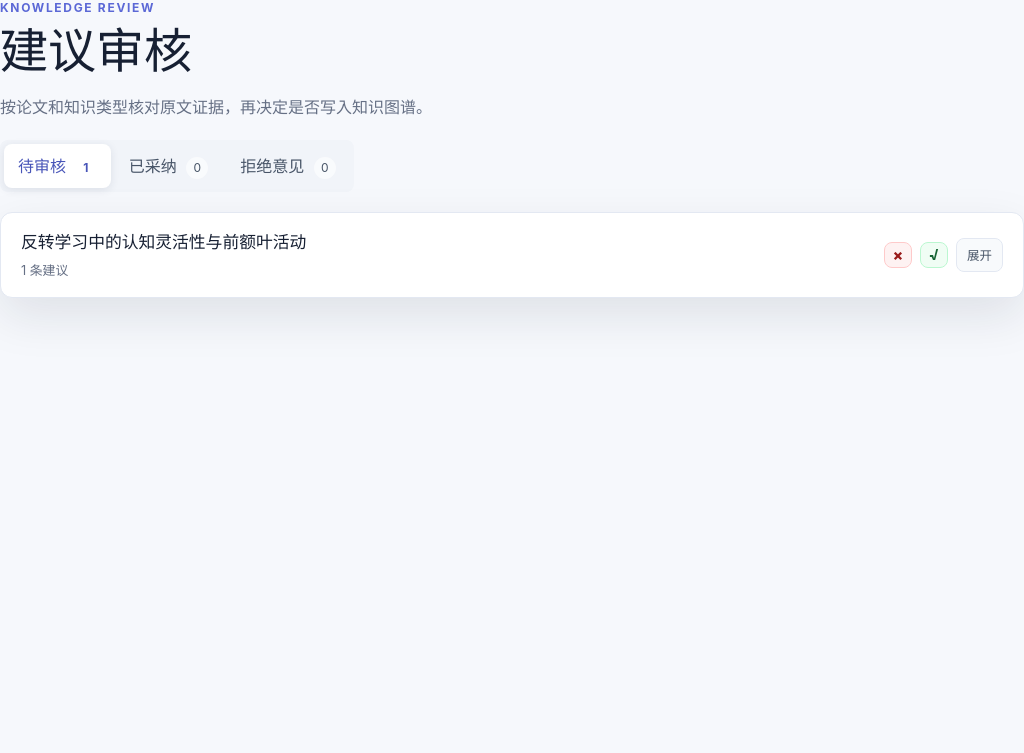
Test: SuggestionReviewPage v05 behavior › preserves the New selection and edited label after a stale candidate conflict
Click the button "展开".
click(980, 255)  # box left=956, top=238, right=1003, bottom=272
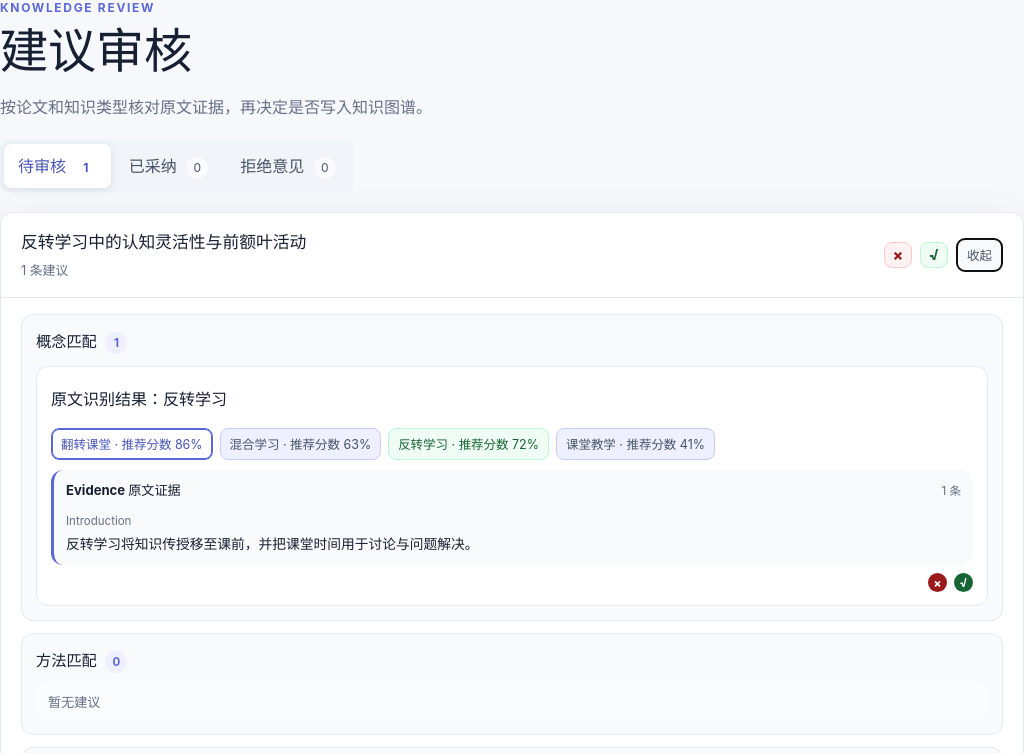
Click the button "翻转课堂 · 推荐分数 86%".
click(132, 444)  # box left=51, top=428, right=213, bottom=460
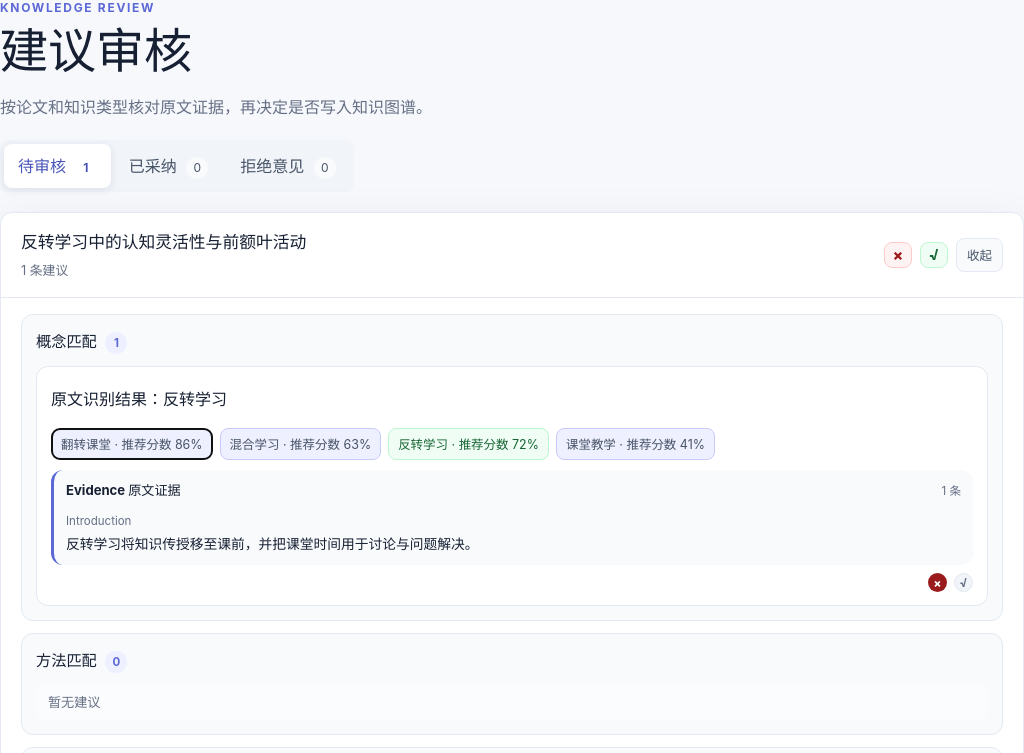
Click the button "反转学习 · 推荐分数 72%".
click(468, 444)  # box left=388, top=428, right=549, bottom=460
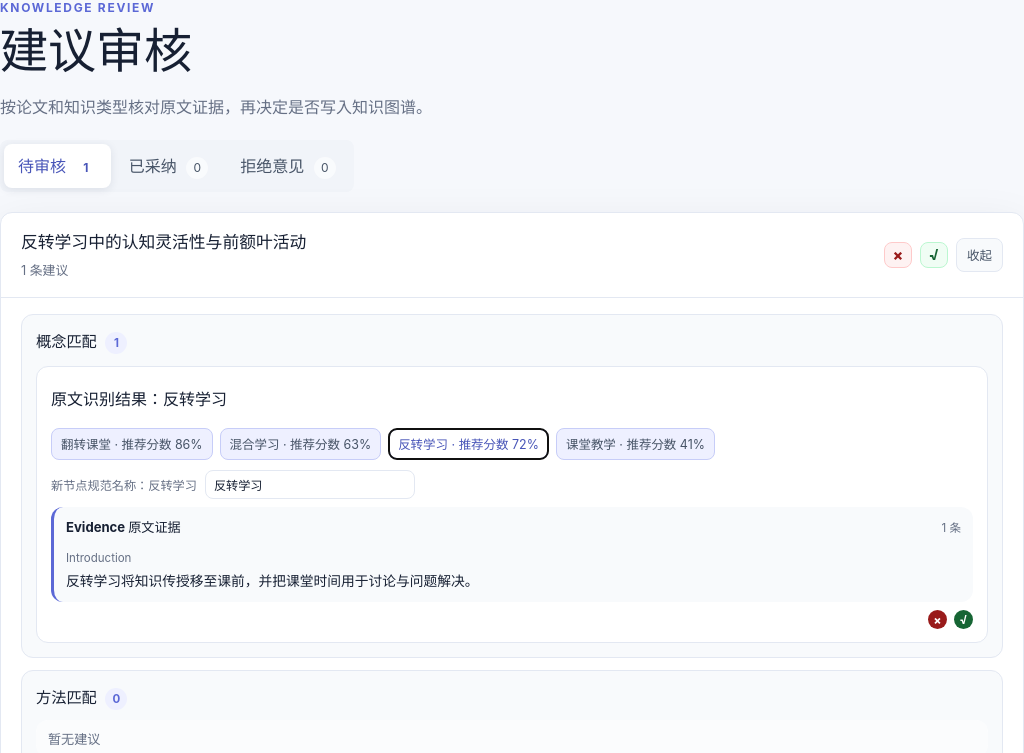
Replace the text in the field labelled "新节点规范名称：反转学习" with "修订名称" at (310, 485), box left=205, top=470, right=415, bottom=499
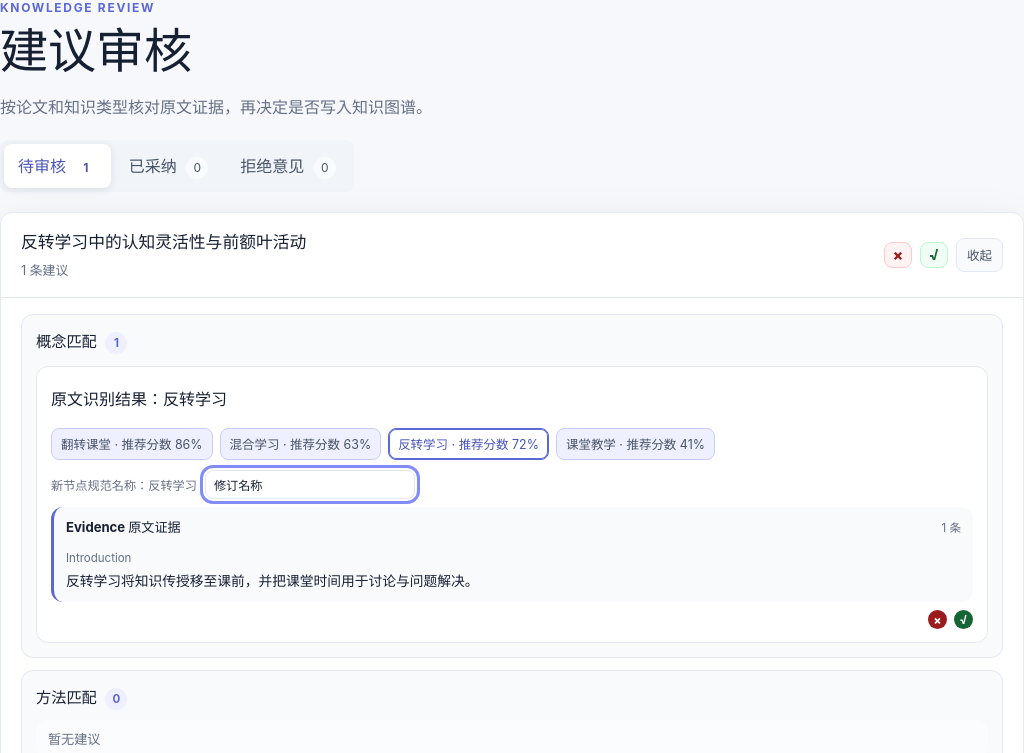
Click the 2nd button "√".
click(964, 620)  # box left=954, top=610, right=973, bottom=629
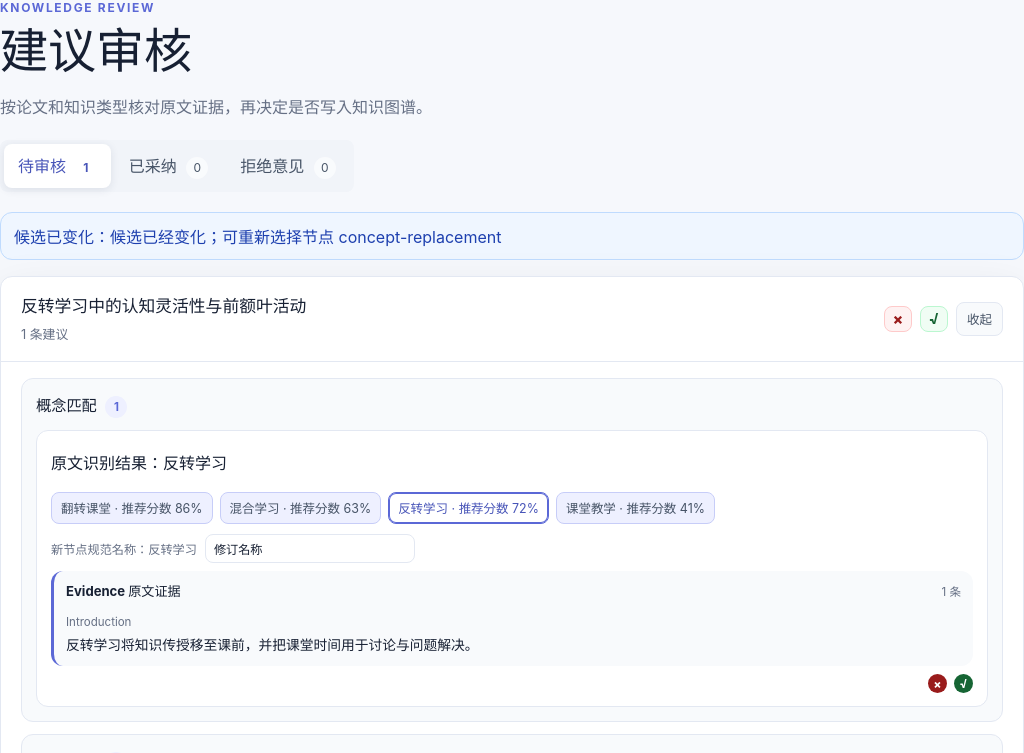
Now the message shows "候选已变化", box left=14, top=227, right=502, bottom=247
